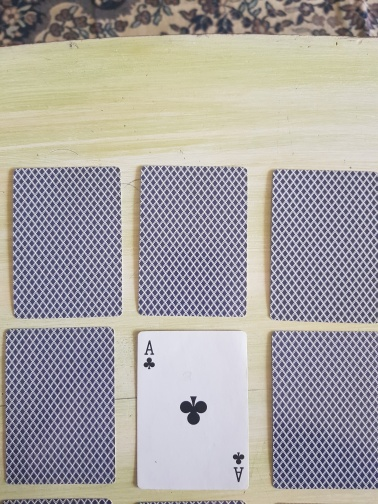ace: (135, 330, 251, 492)
